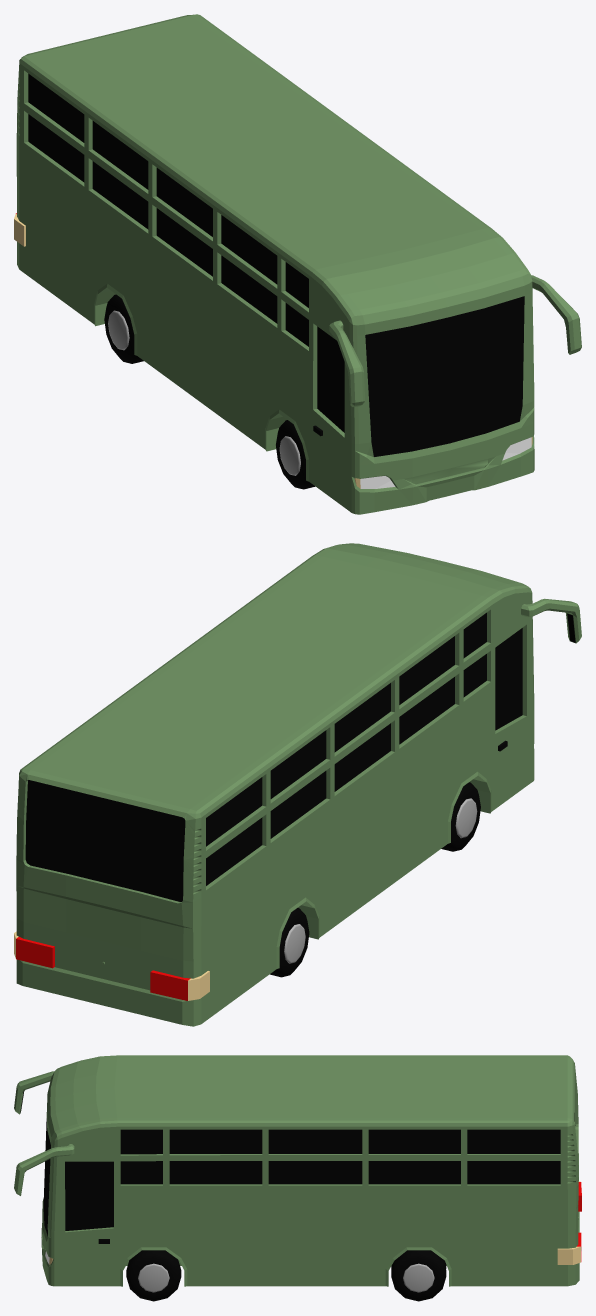
File: BusLowPoly.fbx
3 views of the same model, one above another, from view 1: azimuth 30°, elevation 25°; view 2: azimuth 150°, elevation 25°; view 3: azimuth 270°, elevation 25° (orthographic). The views are drawn at different scales.
Visible parts, largest first — view 1: BUS, BR, FR, High-Beam; view 2: BUS, Break-Light, BR, FR; view 3: BUS, BL, FL, Light-Left.
Boxes of the visible parts, x1,y1,x2,y2 form: BUS: (16, 14, 581, 514); BR: (104, 294, 143, 363); FR: (276, 420, 315, 489); High-Beam: (360, 437, 531, 488); BUS: (16, 543, 581, 1026); Break-Light: (16, 937, 190, 1000); BR: (270, 908, 309, 977); FR: (441, 782, 480, 851); BUS: (14, 1055, 581, 1286); BL: (391, 1250, 446, 1301); FL: (126, 1250, 181, 1301); Light-Left: (49, 1246, 580, 1264).
Size of the model in its own units: 3.1 by 3.02 by 8.55.
